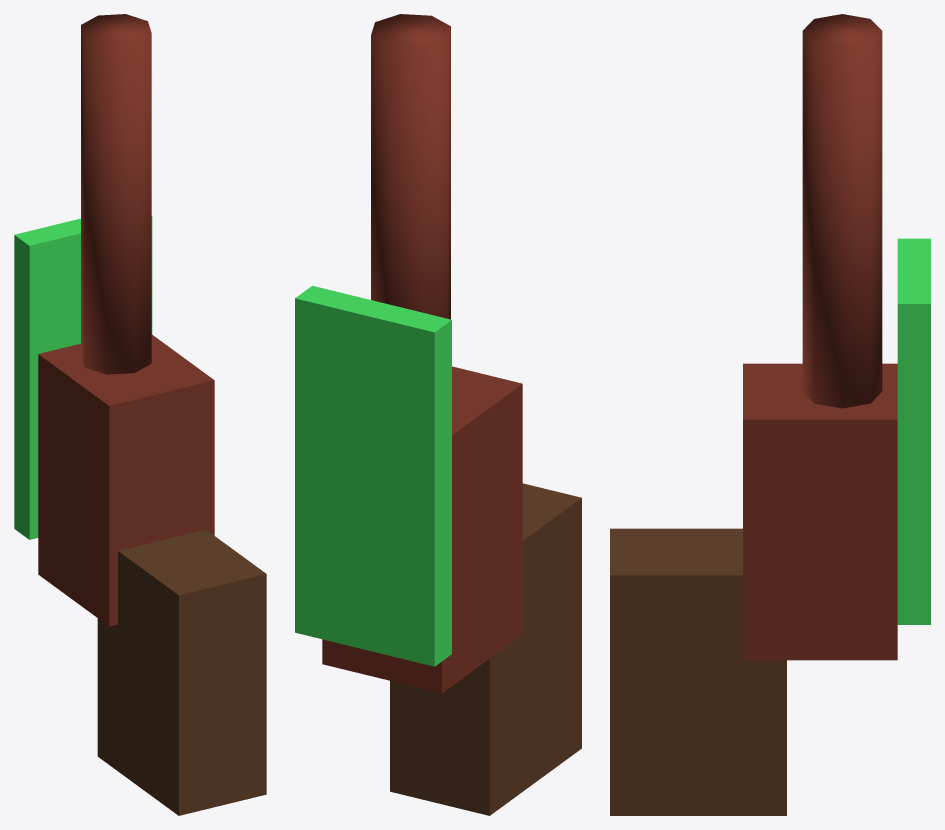
The model's file is space_gun.glb.
The picture shows the model from 3 angles, left to right: view 1: azimuth 30°, elevation 25°; view 2: azimuth 150°, elevation 25°; view 3: azimuth 270°, elevation 25°; orthographic projection. The views are drawn at different scales.
Visible parts, largest first — view 1: space_gun_v0; view 2: space_gun_v0; view 3: space_gun_v0.
Part boxes in pixels (x1,y1,x2,y2): space_gun_v0: (14,14,266,815); space_gun_v0: (295,14,581,815); space_gun_v0: (610,14,930,815).
Bounding box in the file's own units: 0.07 × 0.38 × 0.145.
